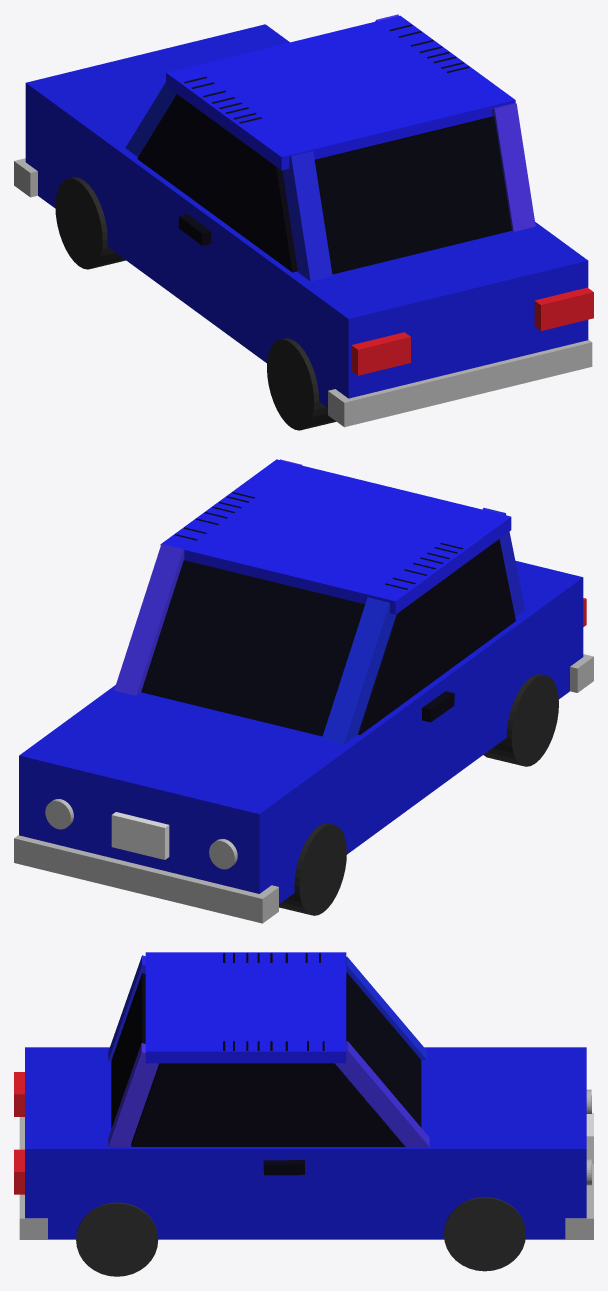
Rendered from Low Poly Blue Car.glb.
The picture shows the model from 3 angles, top to bottom: view 1: azimuth 30°, elevation 25°; view 2: azimuth 150°, elevation 25°; view 3: azimuth 270°, elevation 25°; orthographic projection. The views are drawn at different scales.
Parts seen in each view (by area): view 1: Cube.003, Cube, Cube.009, Cube.007, Cube.005, Cylinder.004, Cylinder.002, Cube.004, Cube.048, Cube.047, Cube.043, Cube.028 (+15 smaller); view 2: Cube.003, Cube, Cube.008, Cube.006, Cube.002, Cube.001, Cylinder.004, Cylinder.002, Cube.046, Cube.044, Cube.030, Cube.028 (+12 smaller); view 3: Cube.003, Cube, Cube.008, Cylinder.005, Cylinder.001, Cube.001, Cube.009, Cube.004, Cube.020, Cube.010, Cube.018, Cube.021 (+21 smaller).
Boxes of the visible parts, x1,y1,x2,y2 form: Cube.003: [25, 24, 588, 407]; Cube: [166, 15, 515, 170]; Cube.009: [314, 116, 511, 274]; Cube.007: [328, 339, 592, 427]; Cube.005: [282, 151, 332, 281]; Cylinder.004: [267, 338, 336, 430]; Cylinder.002: [55, 177, 125, 269]; Cube.004: [492, 103, 535, 231]; Cube.048: [351, 332, 410, 375]; Cube.047: [534, 287, 593, 330]; Cube.043: [264, 158, 297, 272]; Cube.028: [192, 117, 261, 208]; Cube.003: [19, 560, 583, 903]; Cube: [160, 459, 511, 614]; Cube.008: [141, 560, 364, 736]; Cube.006: [14, 835, 278, 923]; Cube.002: [321, 597, 396, 744]; Cube.001: [114, 544, 184, 695]; Cylinder.004: [483, 674, 558, 766]; Cylinder.002: [279, 823, 346, 915]; Cube.046: [111, 812, 169, 859]; Cube.044: [358, 583, 413, 734]; Cube.030: [402, 552, 455, 703]; Cube.028: [416, 543, 463, 693]; Cube.003: [25, 1047, 586, 1239]; Cube: [145, 952, 346, 1063]; Cube.008: [346, 973, 421, 1127]; Cylinder.005: [76, 1202, 158, 1276]; Cylinder.001: [444, 1197, 525, 1271]; Cube.001: [335, 1041, 429, 1146]; Cube.009: [111, 973, 145, 1128]; Cube.004: [108, 1043, 159, 1146]; Cube.020: [312, 1041, 405, 1146]; Cube.010: [131, 1063, 181, 1146]; Cube.018: [263, 1063, 313, 1146]; Cube.021: [296, 1041, 389, 1146].
Bounding box in the file's own units: 5.2 × 4.94 × 11.6.
